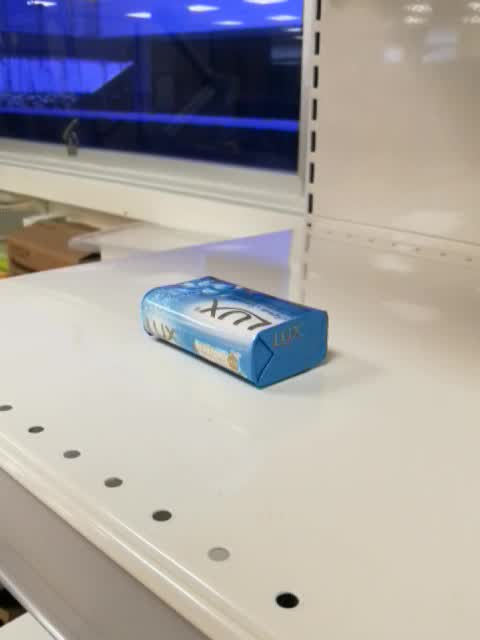soap: (138, 275, 330, 390)
